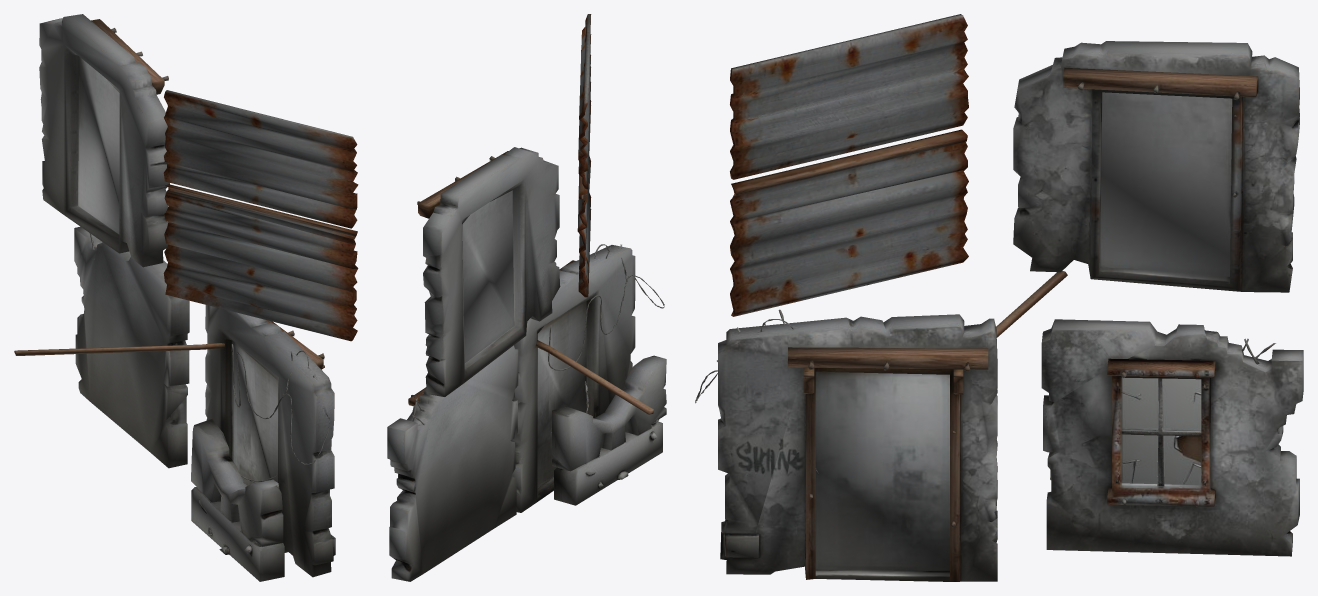
File: AH_ENV_RuinWallKit_v01.glb
The picture shows the model from 3 angles, left to right: view 1: azimuth 30°, elevation 25°; view 2: azimuth 150°, elevation 25°; view 3: azimuth 270°, elevation 25°; orthographic projection. The views are drawn at different scales.
Visible parts, largest first — view 1: tripo_node_b7dae623-aab2-4a74-aa1e-d8a8396b29a3; view 2: tripo_node_b7dae623-aab2-4a74-aa1e-d8a8396b29a3; view 3: tripo_node_b7dae623-aab2-4a74-aa1e-d8a8396b29a3.
Part boxes in pixels (box(x1,y1,x2,y2)): tripo_node_b7dae623-aab2-4a74-aa1e-d8a8396b29a3: box(14, 14, 358, 581); tripo_node_b7dae623-aab2-4a74-aa1e-d8a8396b29a3: box(387, 14, 666, 581); tripo_node_b7dae623-aab2-4a74-aa1e-d8a8396b29a3: box(695, 14, 1303, 581).
Bounding box in the file's own units: 0.2536 × 0.5 × 0.5246.
1 material, 1 textured.
